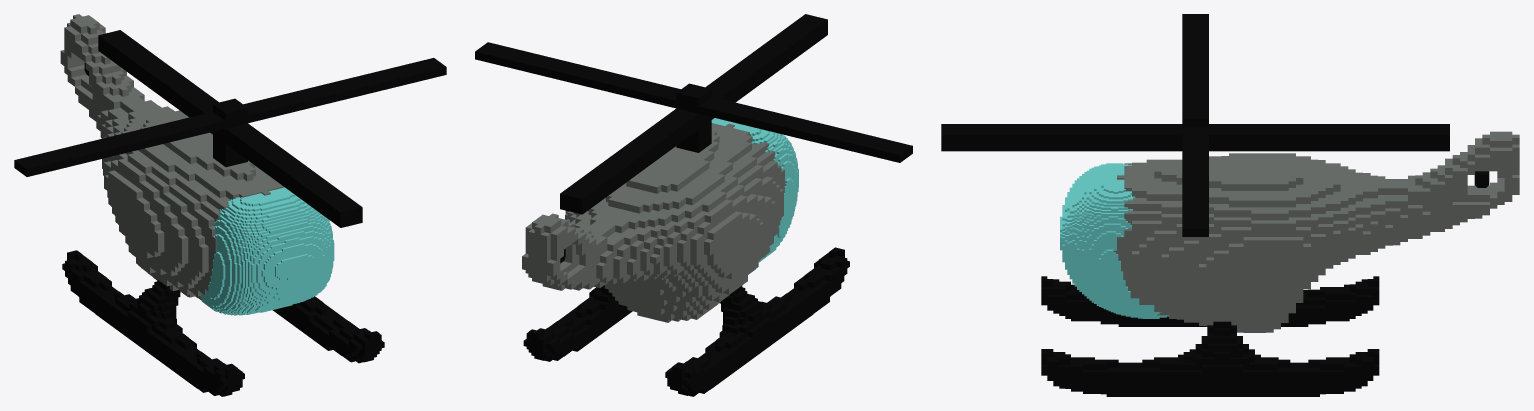
File: flight.fbx
3 views of the same model, side by side, from view 1: azimuth 30°, elevation 25°; view 2: azimuth 150°, elevation 25°; view 3: azimuth 270°, elevation 25° (orthographic). The views are drawn at different scales.
Parts seen in each view (by area): view 1: Cube, Cube.002; view 2: Cube, Cube.002; view 3: Cube, Cube.002.
Boxes of the visible parts, <box> form: Cube: <box>60,14,384,396</box>; Cube.002: <box>14,30,446,227</box>; Cube: <box>522,118,849,396</box>; Cube.002: <box>475,14,912,214</box>; Cube: <box>1041,131,1519,396</box>; Cube.002: <box>941,14,1449,236</box>.
Size of the model in its own units: 422 by 224 by 480.
